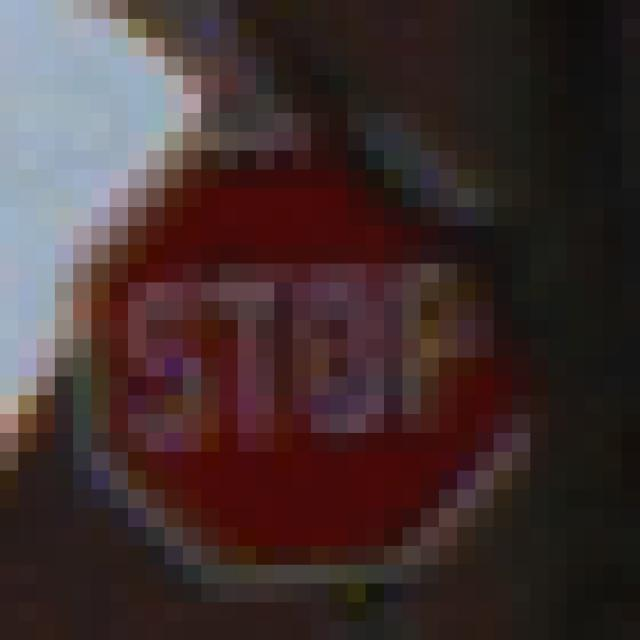STOP: (93, 114, 550, 547)
